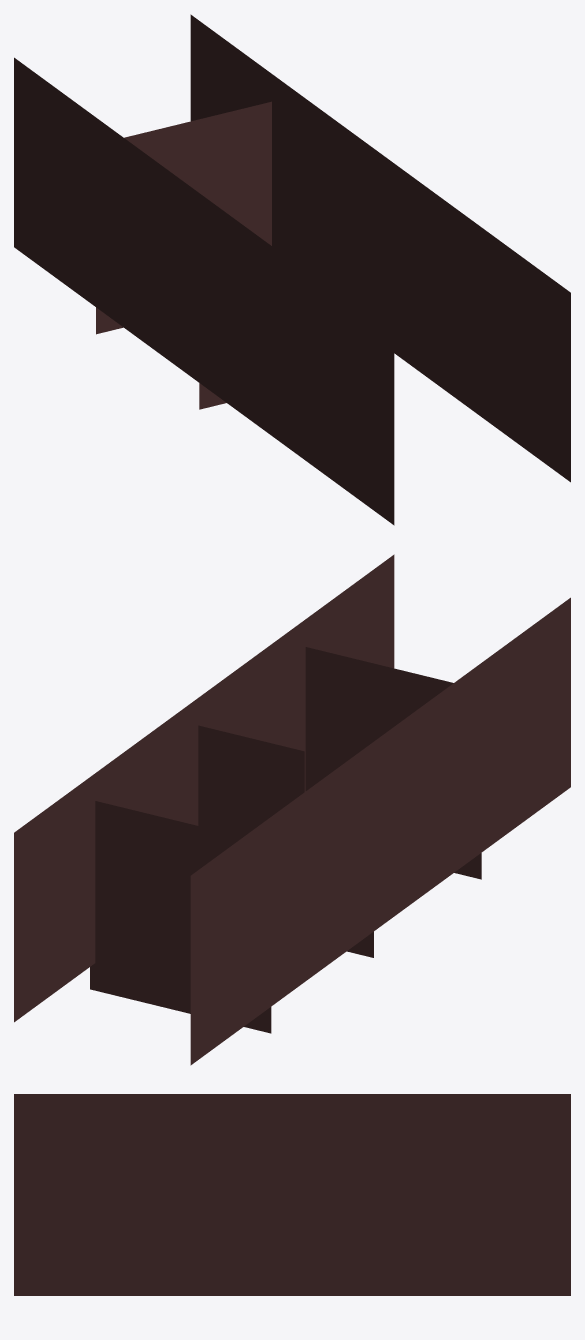
The model's file is Wall.fbx.
3 renders of one model, top to bottom at view 1: azimuth 30°, elevation 25°; view 2: azimuth 150°, elevation 25°; view 3: azimuth 270°, elevation 25°, orthographic. The views are drawn at different scales.
Visible parts, largest first — view 1: Wall (4), Wall (5), Wall; view 2: Wall (4), Wall (5), Wall, Wall (3), Wall (1); view 3: Wall (5), Wall (4).
Part boxes in pixels (x1,y1,x2,y2): Wall (4): (14,57,394,525); Wall (5): (190,14,570,482); Wall: (96,101,271,334); Wall (4): (190,597,570,1065); Wall (5): (14,554,394,1022); Wall: (90,801,271,1033); Wall (3): (305,647,481,879); Wall (1): (198,725,304,836); Wall (5): (14,1157,570,1295); Wall (4): (14,1094,570,1156).
Bounding box in the file's own units: 3361 × 3438 × 10898.
